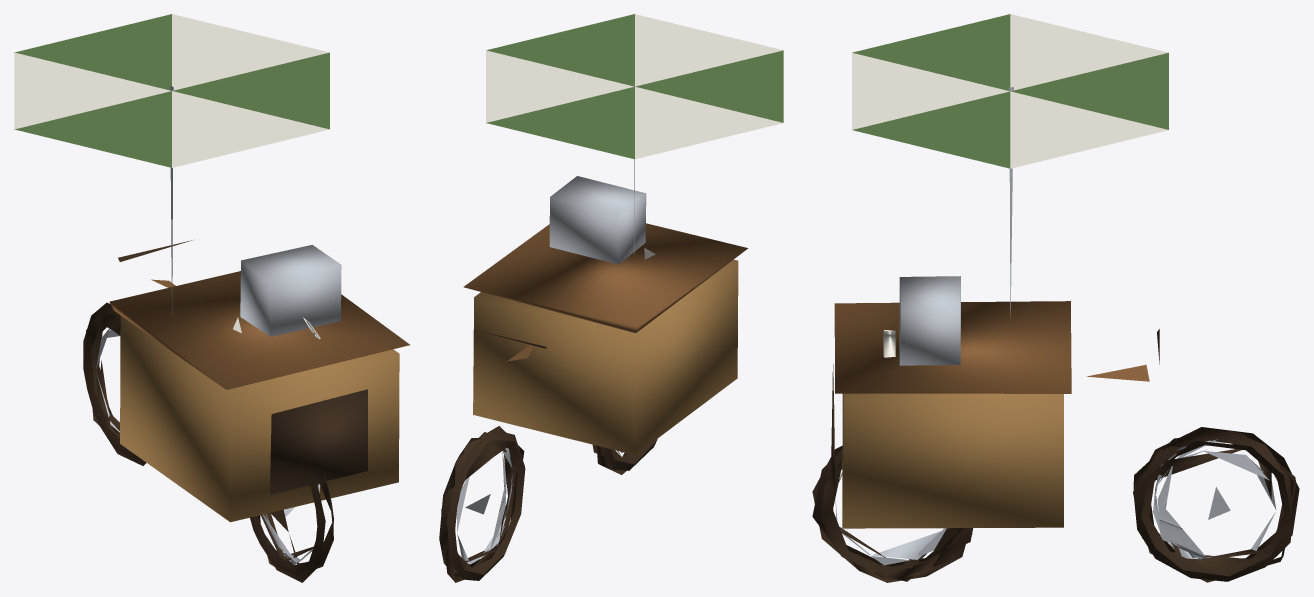
The model's file is lod_coffee_cart.glb.
3 renders of one model, left to right at view 1: azimuth 30°, elevation 25°; view 2: azimuth 150°, elevation 25°; view 3: azimuth 270°, elevation 25°, orthographic. The views are drawn at different scales.
Visible parts, largest first — view 1: coffee_cart; view 2: coffee_cart; view 3: coffee_cart.
Boxes of the visible parts, x1,y1,x2,y2 form: coffee_cart: [14, 14, 409, 582]; coffee_cart: [439, 14, 783, 582]; coffee_cart: [812, 14, 1299, 582].
Bounding box in the file's own units: 1.6 × 2.24 × 2.13.
